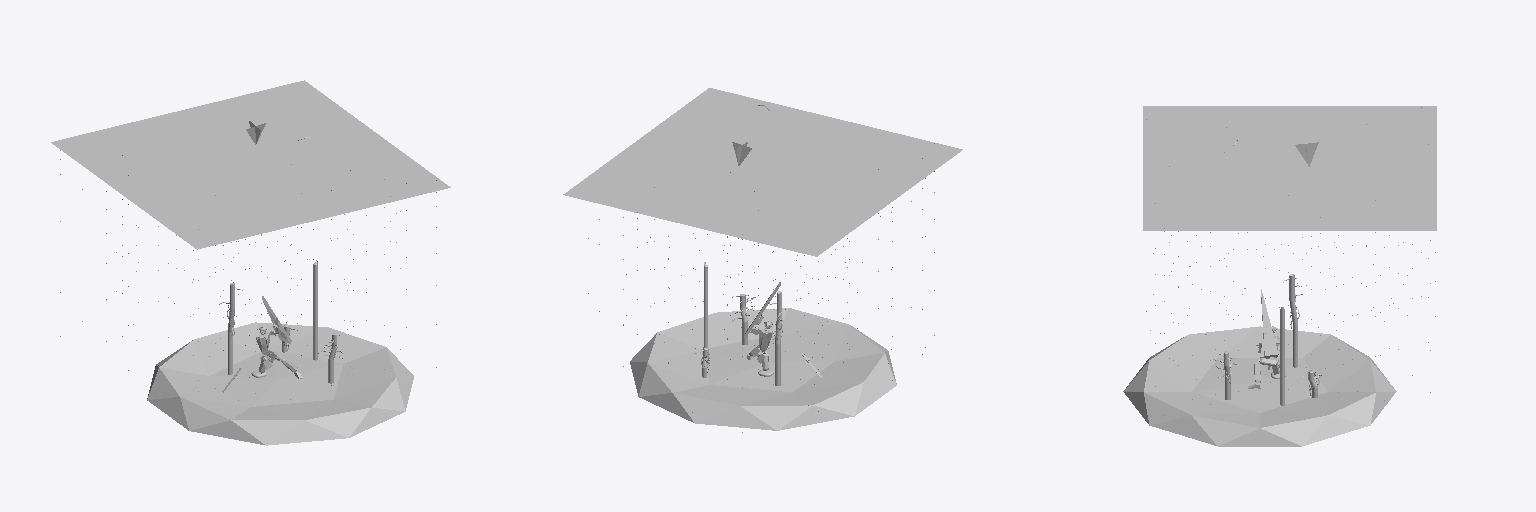
The model's file is Diorama.obj.
3 views of the same model, side by side, from view 1: azimuth 30°, elevation 25°; view 2: azimuth 150°, elevation 25°; view 3: azimuth 270°, elevation 25° (orthographic).
Parts seen in each view (by area): view 1: Plane, ground_Icosphere, Arm_L.001_Cube.021; view 2: Plane, ground_Icosphere, Arm_L.001_Cube.021; view 3: Plane, ground_Icosphere, Arm_L.001_Cube.021.
Part boxes in pixels (left/top/right/bottom): Plane: left=51, top=80, right=450, bottom=249; ground_Icosphere: left=147, top=322, right=413, bottom=445; Arm_L.001_Cube.021: left=256, top=296, right=302, bottom=378; Plane: left=563, top=88, right=962, bottom=256; ground_Icosphere: left=630, top=308, right=896, bottom=430; Arm_L.001_Cube.021: left=744, top=282, right=780, bottom=363; Plane: left=1143, top=106, right=1436, bottom=230; ground_Icosphere: left=1123, top=326, right=1396, bottom=446; Arm_L.001_Cube.021: left=1248, top=289, right=1279, bottom=388.
Bounding box in the file's own units: 228 × 220 × 243.